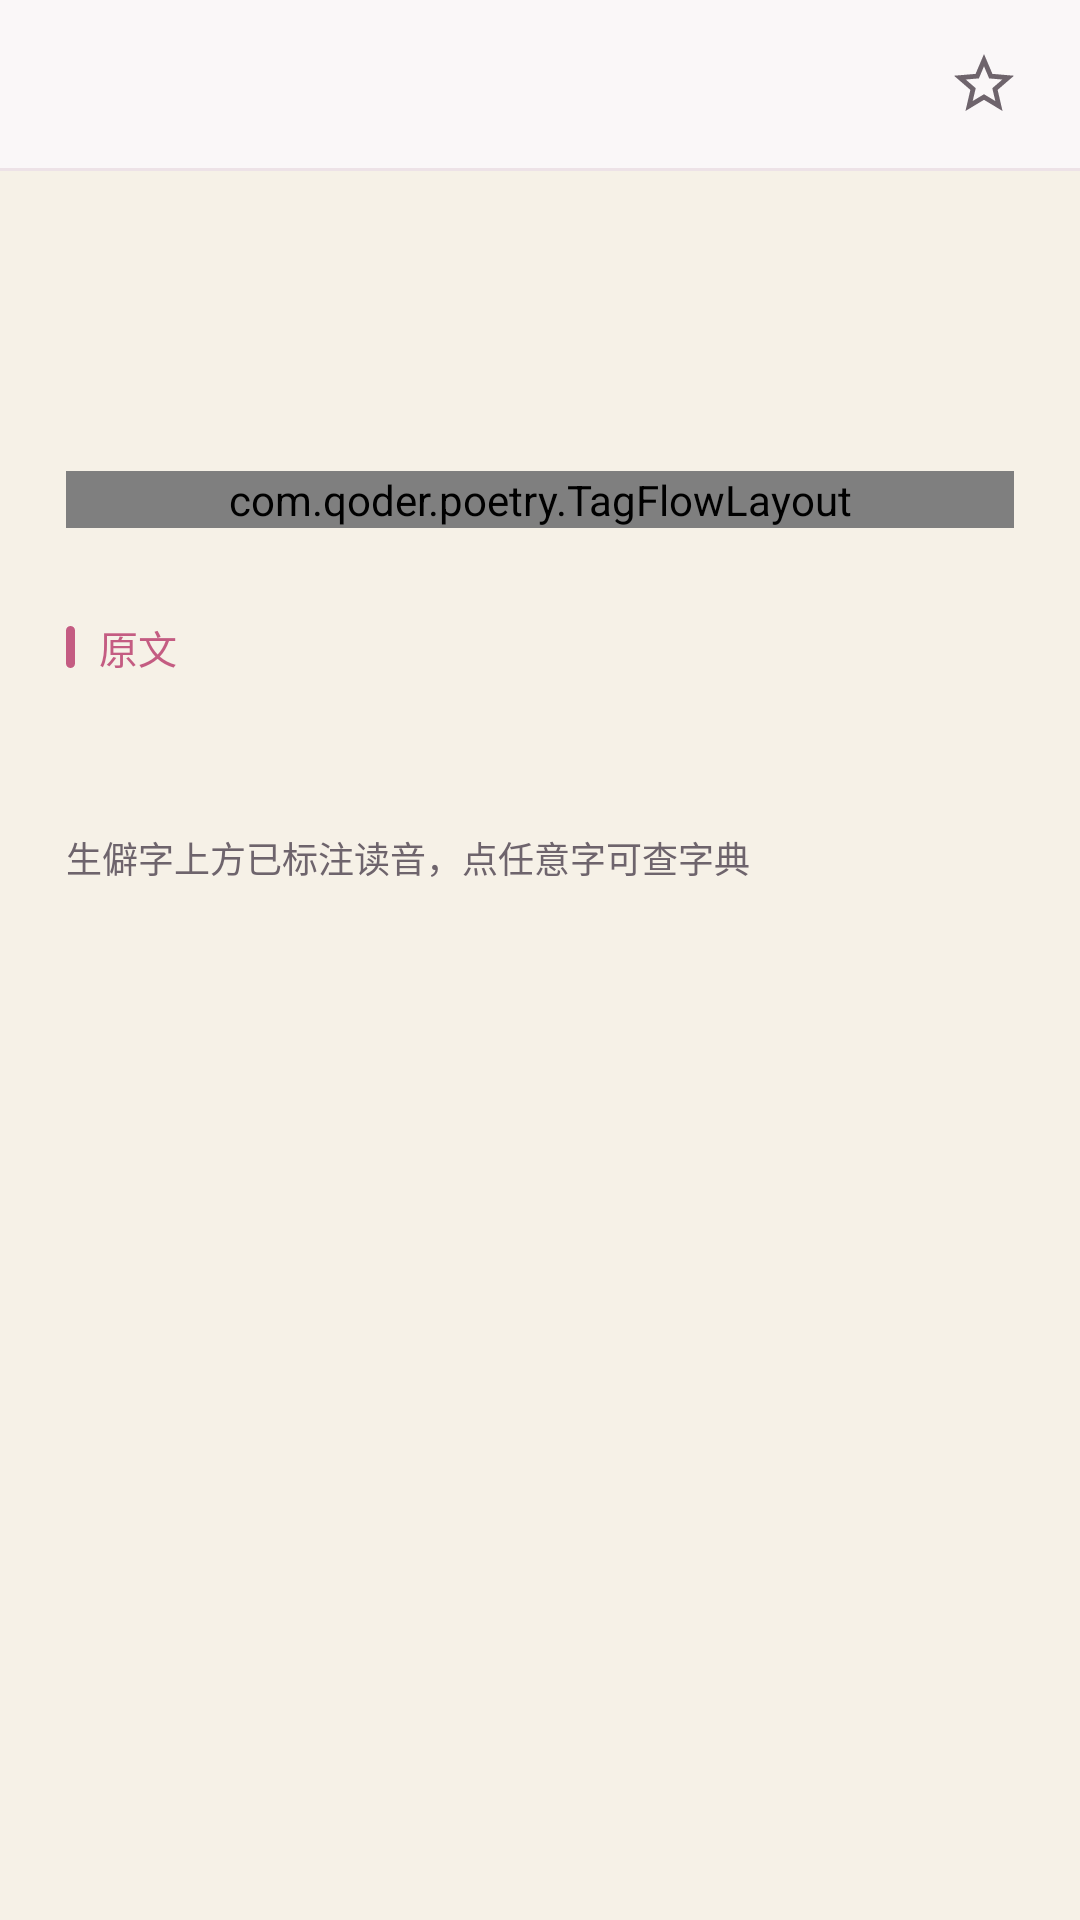

Where icons sit on this 1080*1920 app screen, as (x1, y1, x2, y2):
收藏: (954, 54, 1014, 111)
